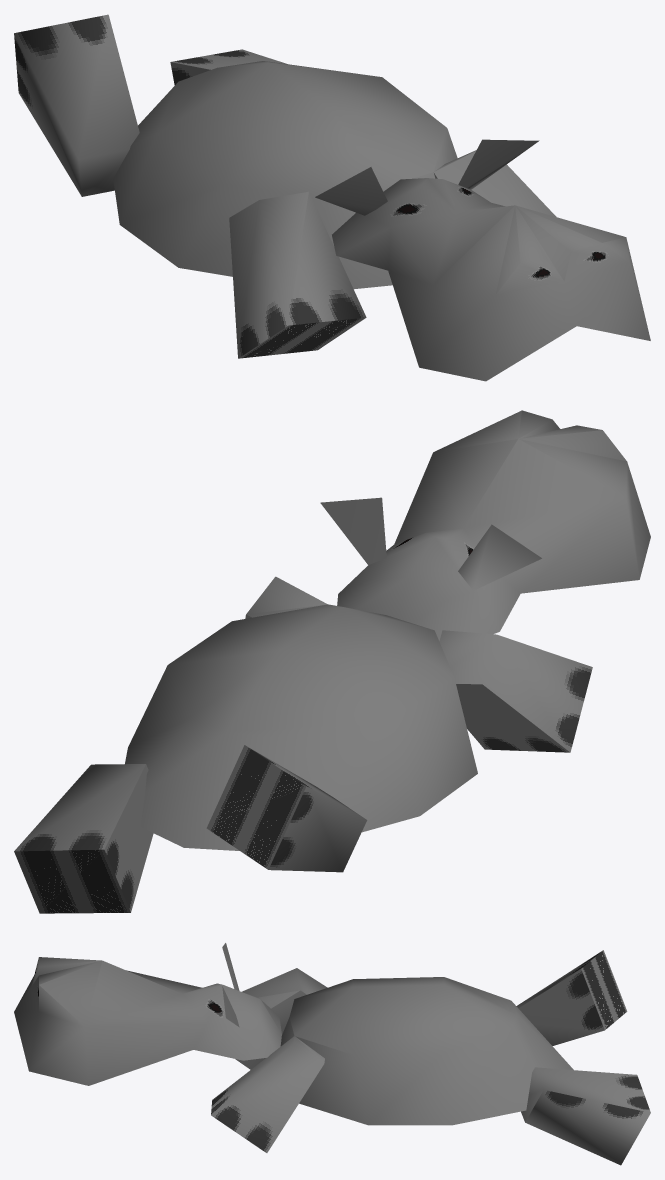
File: hippo.obj
3 views of the same model, one above another, from view 1: azimuth 30°, elevation 25°; view 2: azimuth 150°, elevation 25°; view 3: azimuth 270°, elevation 25° (orthographic). The views are drawn at different scales.
Parts seen in each view (by area): view 1: 3, 1; view 2: 3, 1; view 3: 3, 1.
Boxes of the visible parts, x1,y1,x2,y2 form: 3: (78, 61, 650, 381); 1: (14, 14, 556, 358); 3: (125, 410, 650, 850); 1: (14, 614, 592, 913); 3: (14, 943, 573, 1125); 1: (211, 950, 650, 1165).
Size of the model in its own units: 4.81 by 3.27 by 11.37.
Materials: 2 (2 with a texture image).
